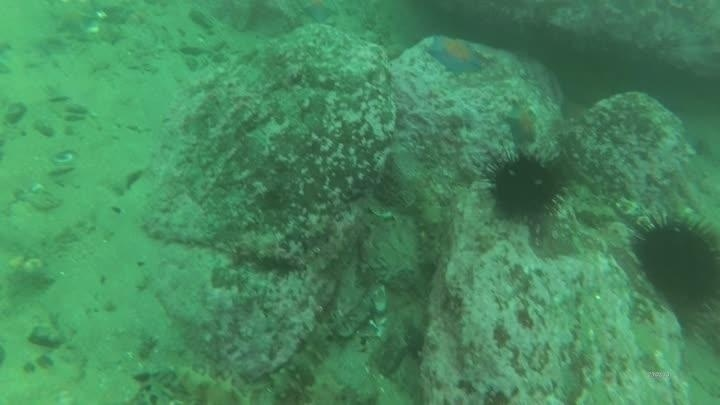echinus: (629, 210, 720, 310), (482, 149, 567, 223)
holothurian: (264, 321, 336, 403), (166, 362, 254, 404), (411, 183, 449, 272)
starfish: (425, 34, 485, 77), (503, 100, 541, 147), (48, 4, 98, 36), (298, 0, 340, 25)
